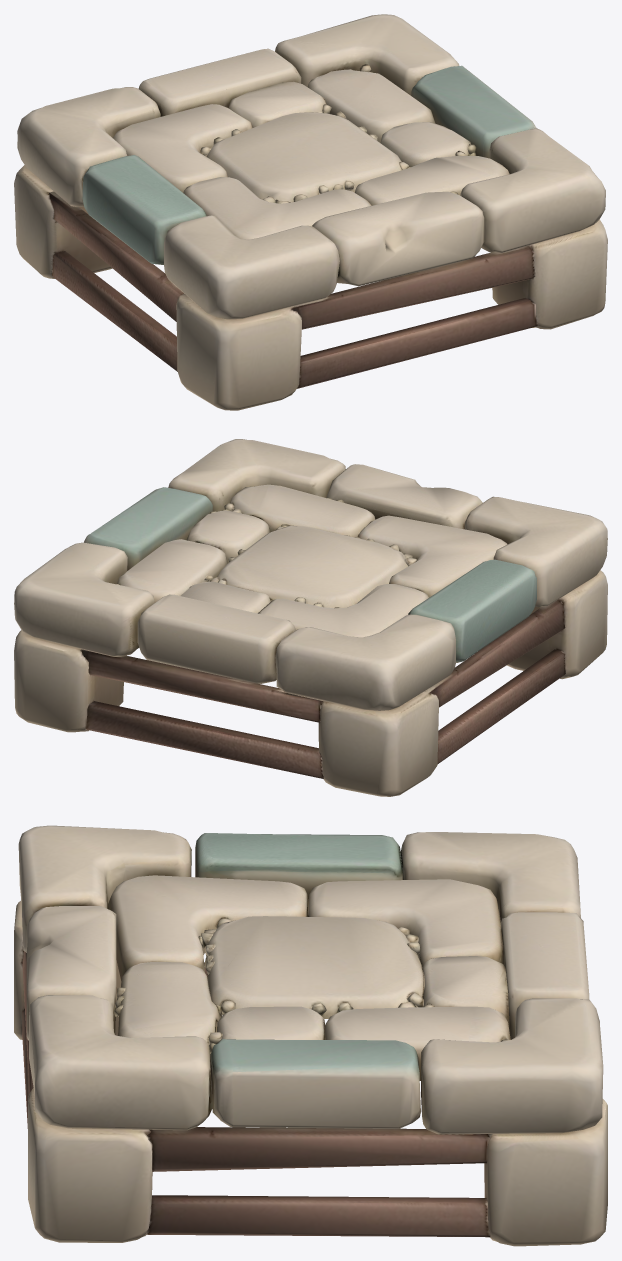
File: tripo_convert_2759f437-b70d-4fc6-aa22-d98ad33cc13b.fbx
3 views of the same model, one above another, from view 1: azimuth 30°, elevation 25°; view 2: azimuth 150°, elevation 25°; view 3: azimuth 270°, elevation 25° (orthographic). The views are drawn at different scales.
Parts seen in each view (by area): view 1: tripo_node_2759f437; view 2: tripo_node_2759f437; view 3: tripo_node_2759f437.
Boxes of the visible parts, bbox=[...] form: tripo_node_2759f437: bbox=[14, 14, 607, 410]; tripo_node_2759f437: bbox=[14, 439, 607, 796]; tripo_node_2759f437: bbox=[14, 825, 607, 1246].
Bounding box in the file's own units: 0.998 × 0.334 × 0.998.
1 material, 1 textured.
